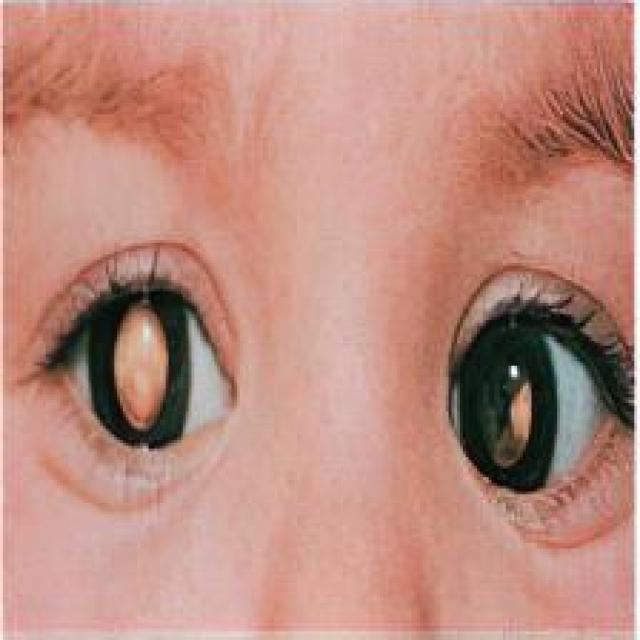reflexo-alterado: (405, 270, 597, 527), (60, 280, 236, 489)
